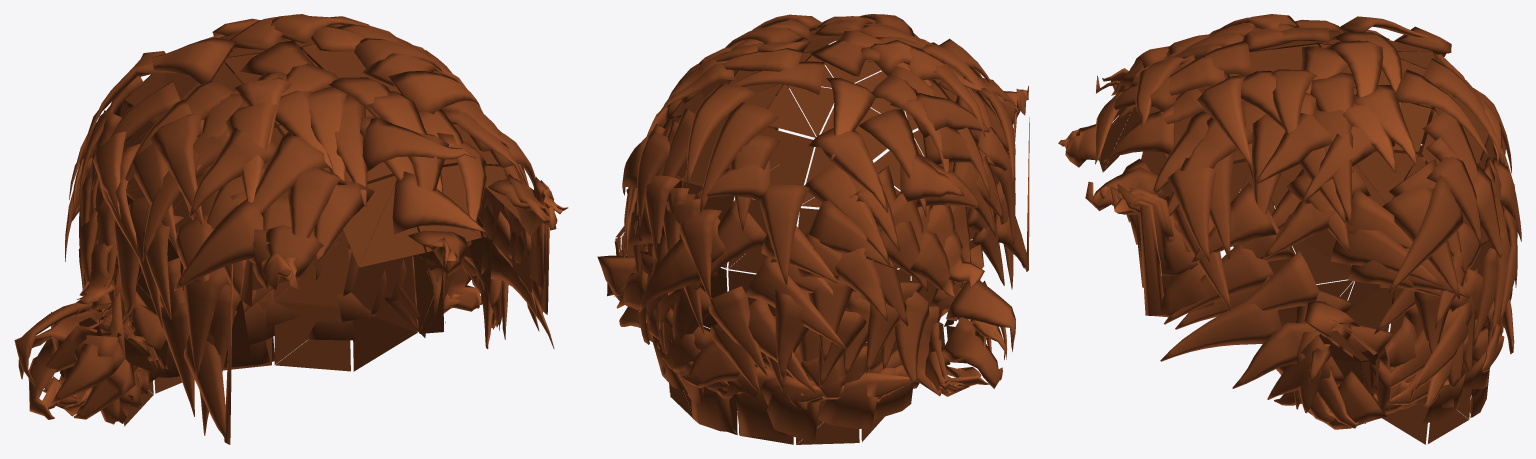
The model's file is kopf.haar.zerzaust.glb.
3 views of the same model, side by side, from view 1: azimuth 30°, elevation 25°; view 2: azimuth 150°, elevation 25°; view 3: azimuth 270°, elevation 25° (orthographic). The views are drawn at different scales.
Parts seen in each view (by area): view 1: haar; view 2: haar; view 3: haar.
Boxes of the visible parts, x1,y1,x2,y2 form: haar: (14,14,568,444); haar: (597,14,1029,444); haar: (1058,14,1521,444).
Bounding box in the file's own units: 0.2527 × 0.2034 × 0.2374.
